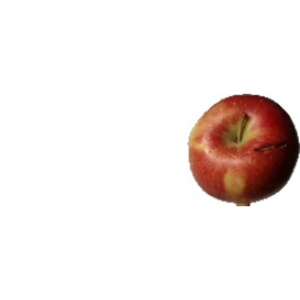maçã braeburn: (186, 92, 300, 209)
